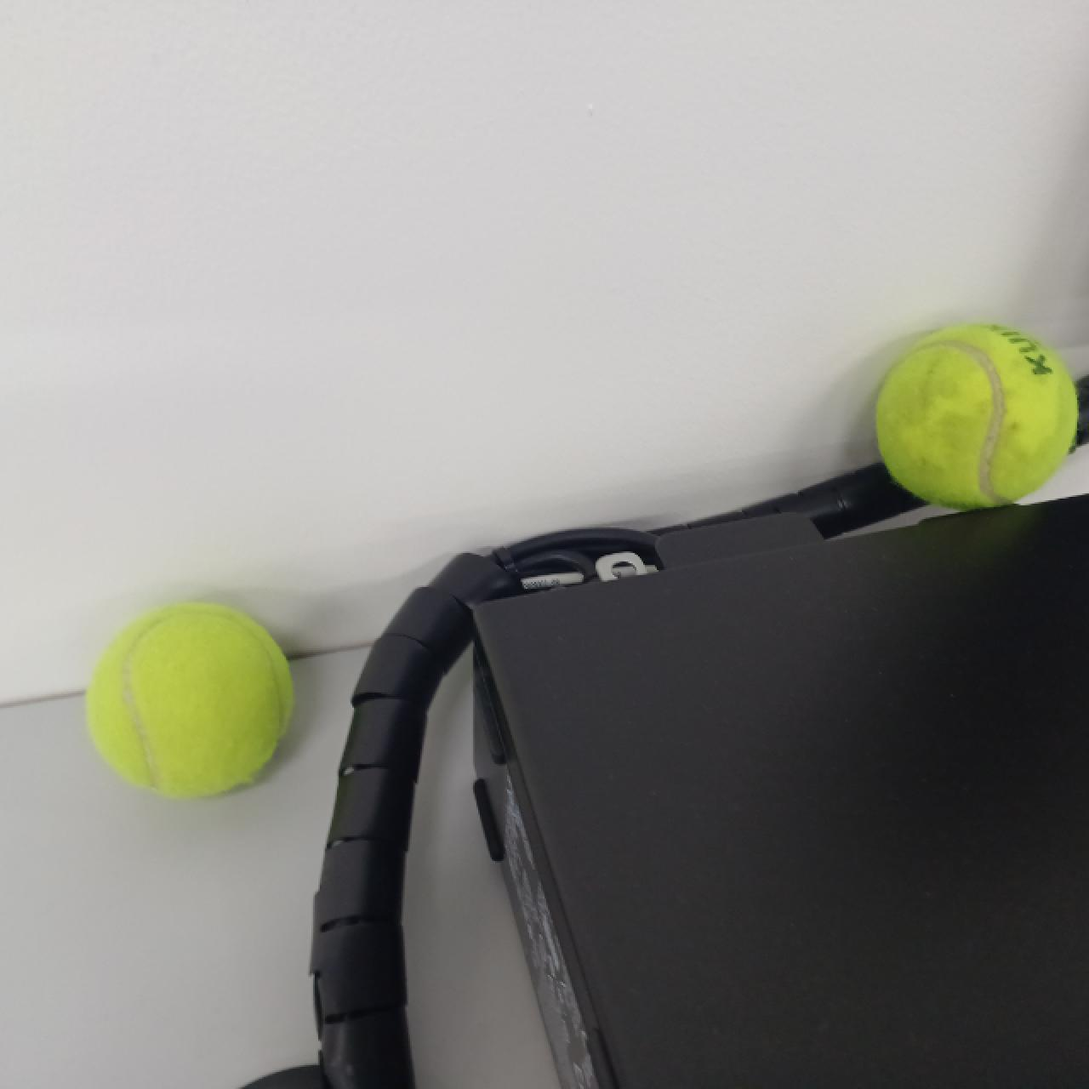tennis-ball: (87, 603, 295, 800), (875, 319, 1078, 511)
